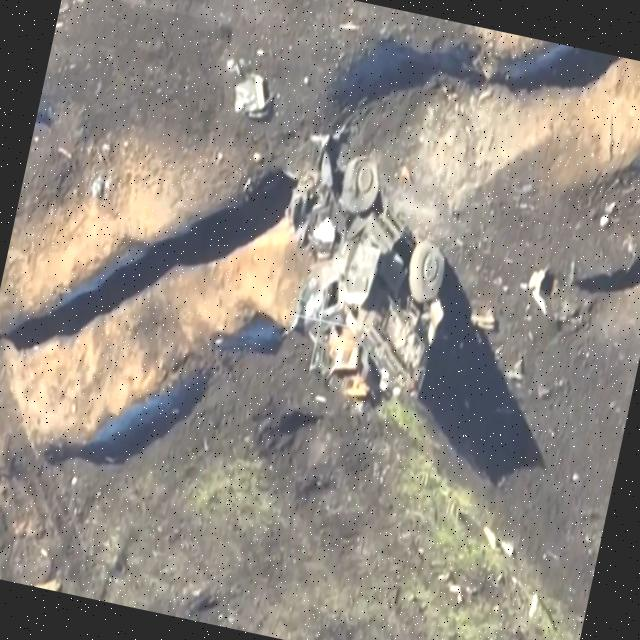Destroyed: (256, 151, 470, 426)
